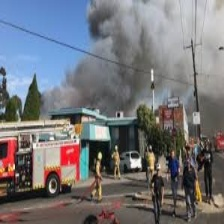smoke: (69, 3, 214, 103)
